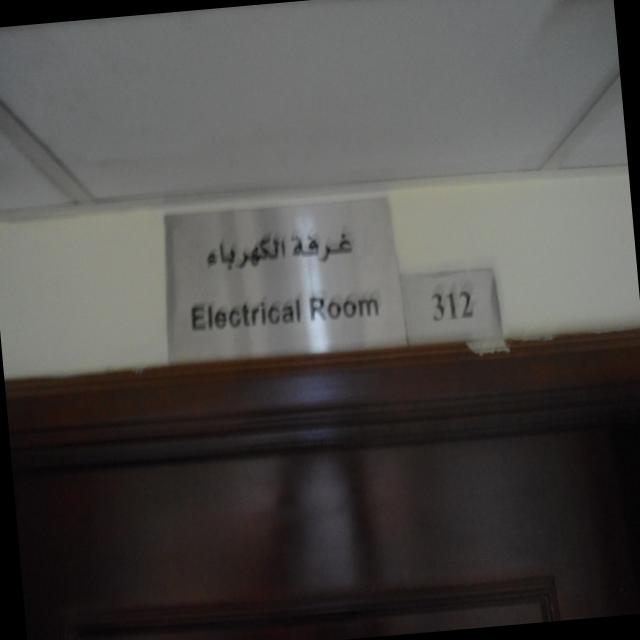door: (6, 320, 640, 640)
sign: (166, 190, 399, 362), (394, 268, 504, 350)
